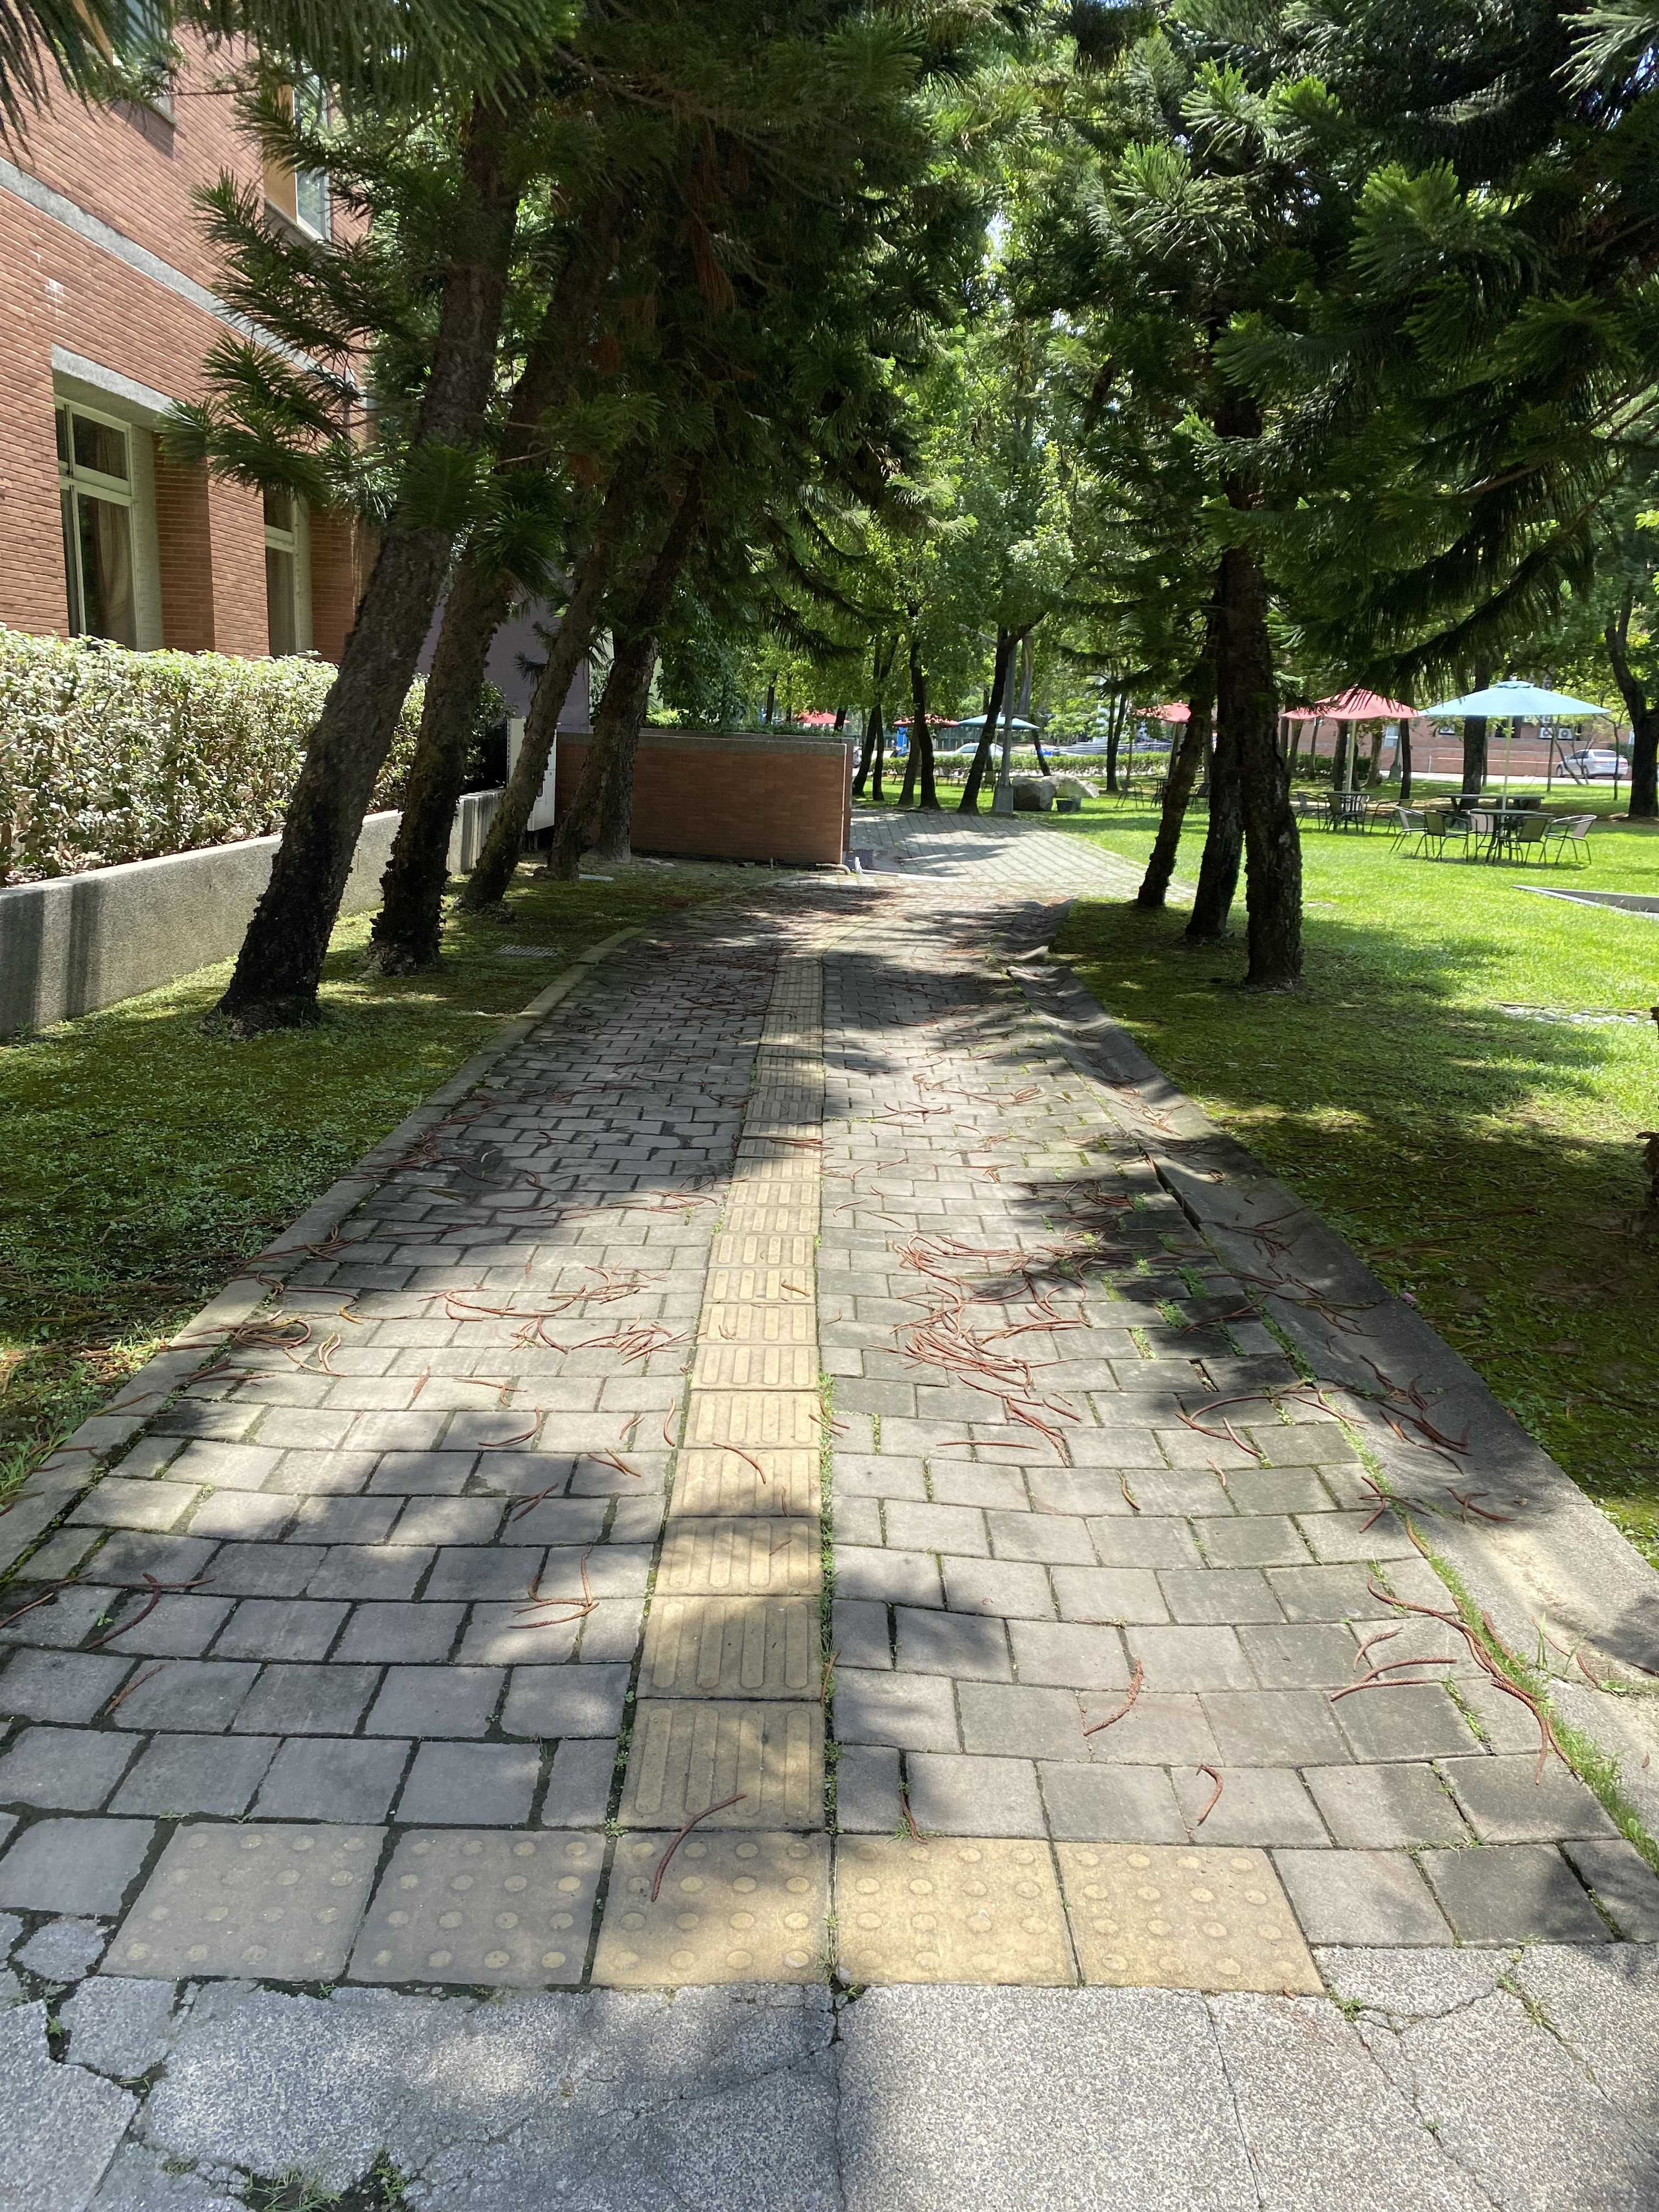sidewalk: (5, 791, 1659, 2210)
